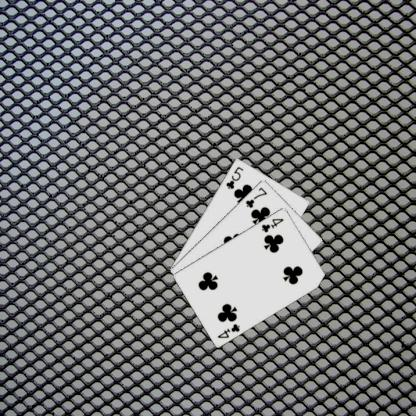4C: (259, 216, 285, 234), (215, 321, 241, 339)
5C: (223, 163, 245, 190)
7C: (243, 184, 268, 209)
